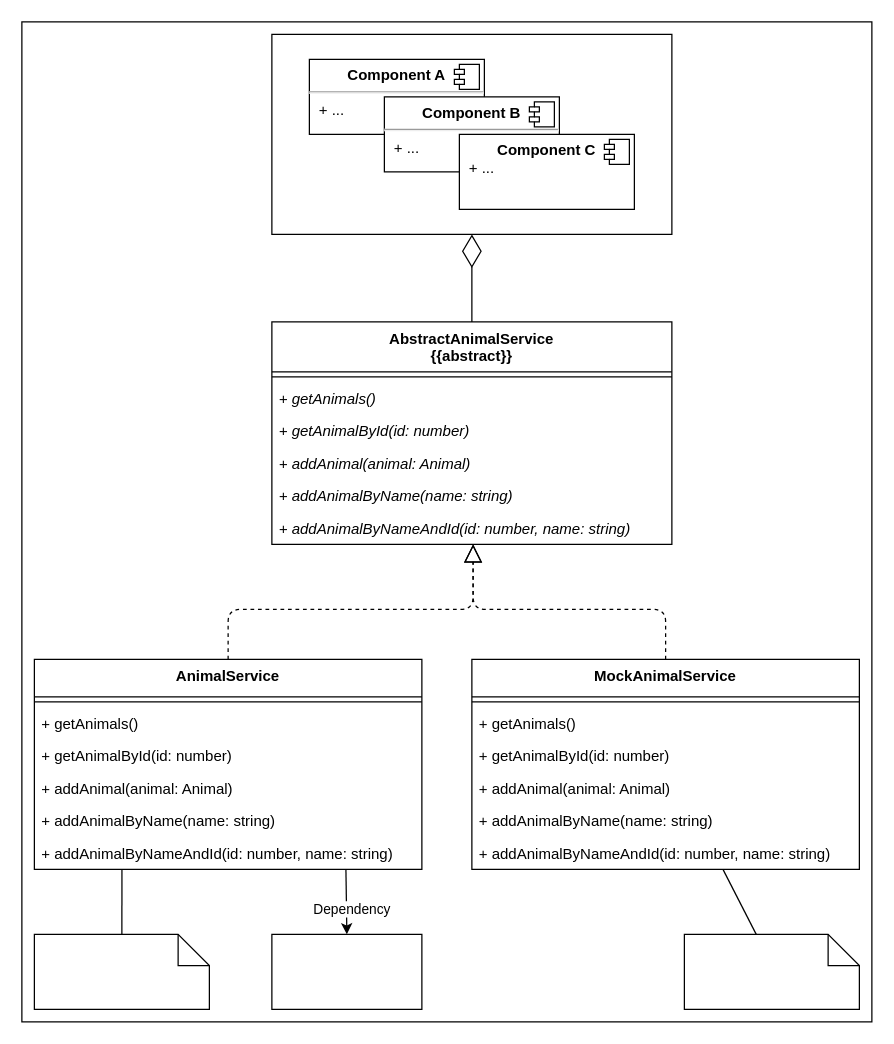
The diagram is 894 pixels wide and 1044 high, and some of its shapes have lost their labels. The centre of each missing label's shape, as x and y in pixels:
Animal API (NestJS): [346,971]
Using in Production: [121,971]
Using in Test-Harness: [771,971]
